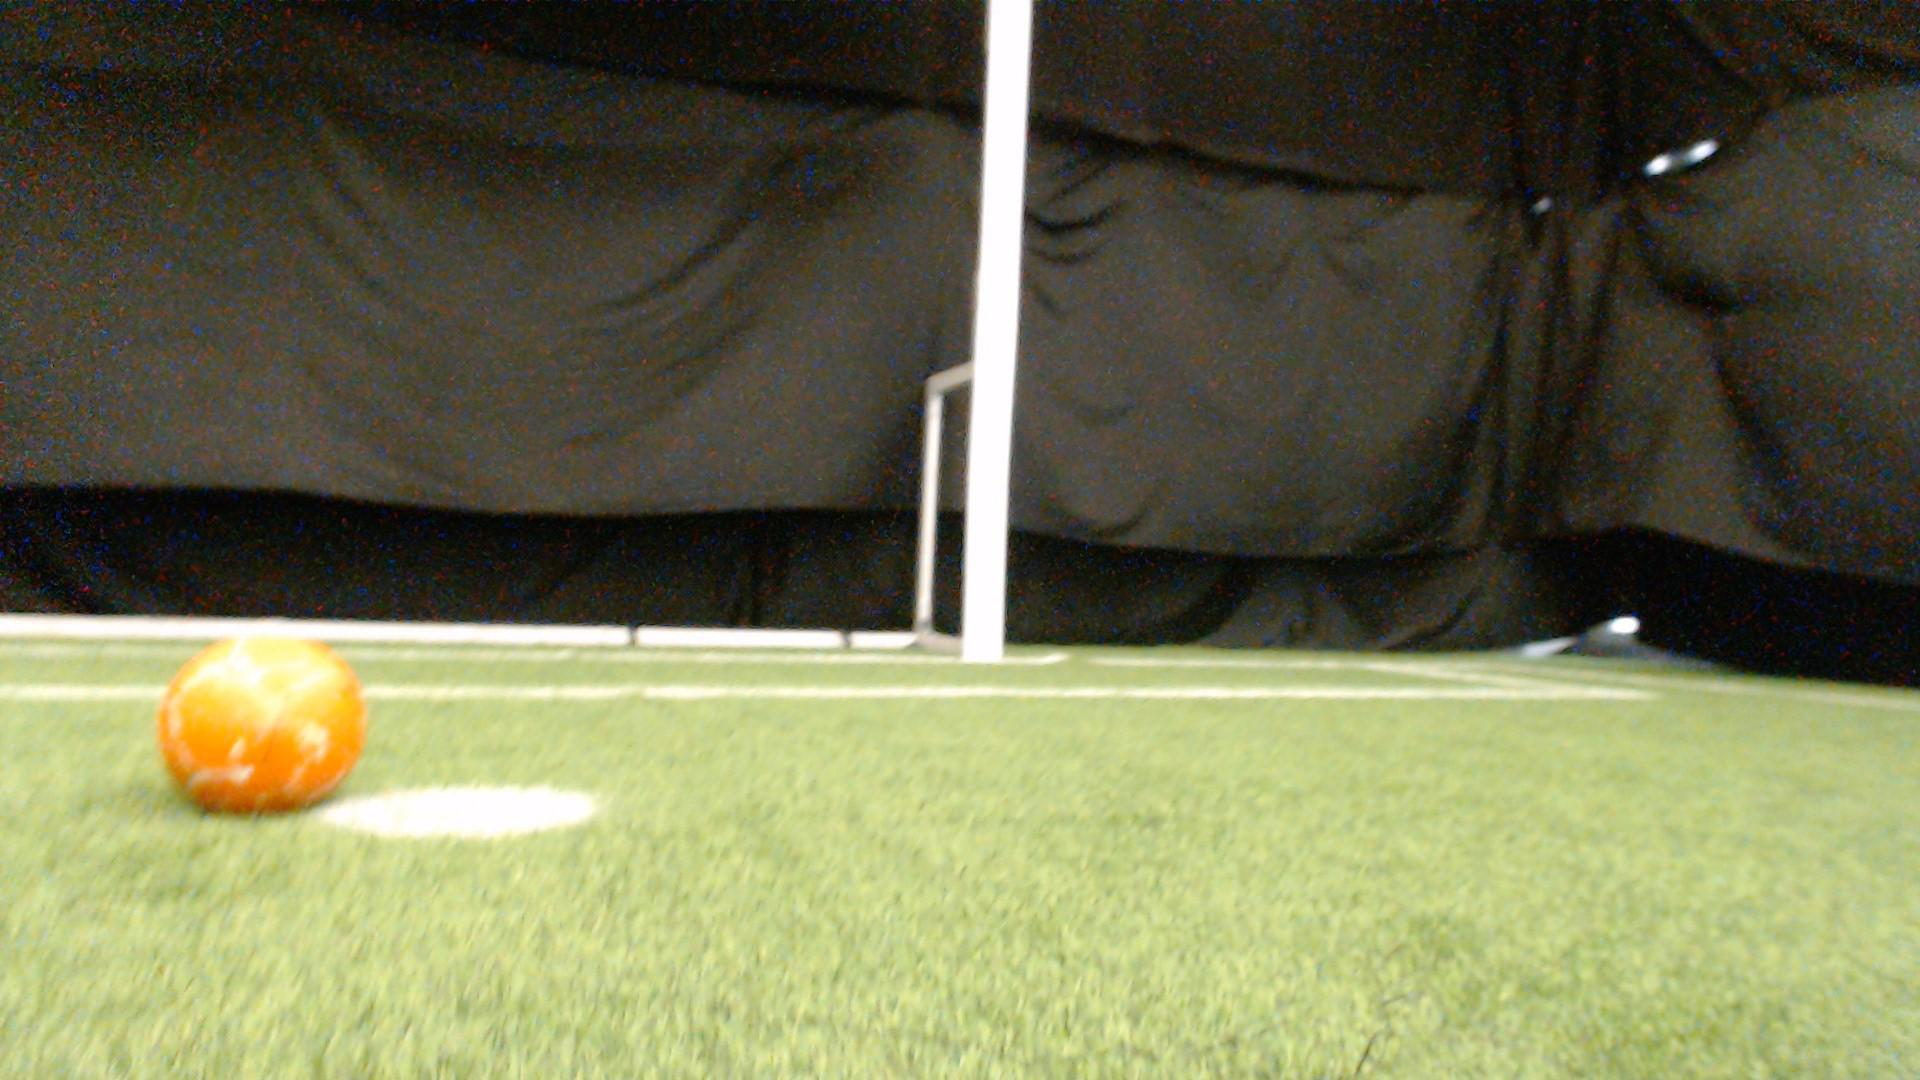bola: (121, 616, 414, 828)
